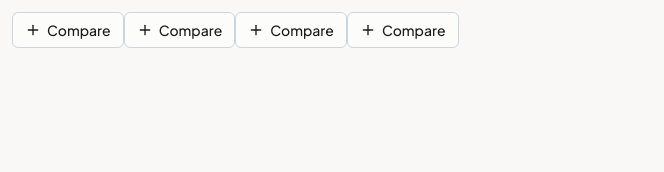
the Compare toggle and the tray › refuses a fourth property, and says why
Step 1. Click the 1st button "Compare" → click(68, 30), box [12, 12, 124, 48]
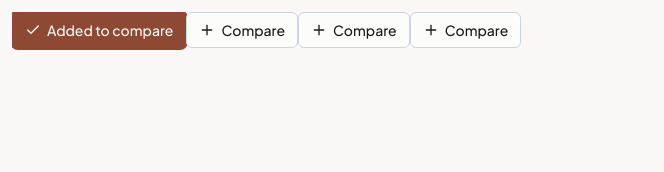
Step 2. Click the 1st button "Compare" → click(242, 30), box [186, 12, 298, 48]
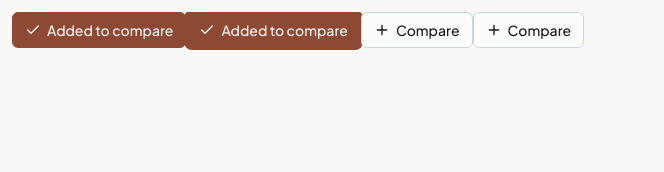
Step 3. Click the 1st button "Compare" → click(417, 30), box [361, 12, 472, 48]
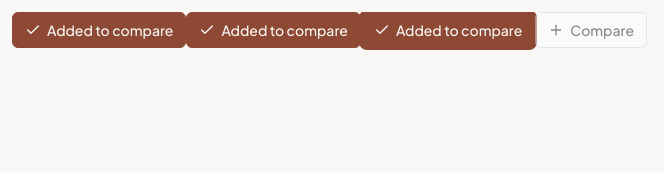
Now the button with aria-label "Add Four to the comparison" is disabled, box [535, 12, 647, 48]
